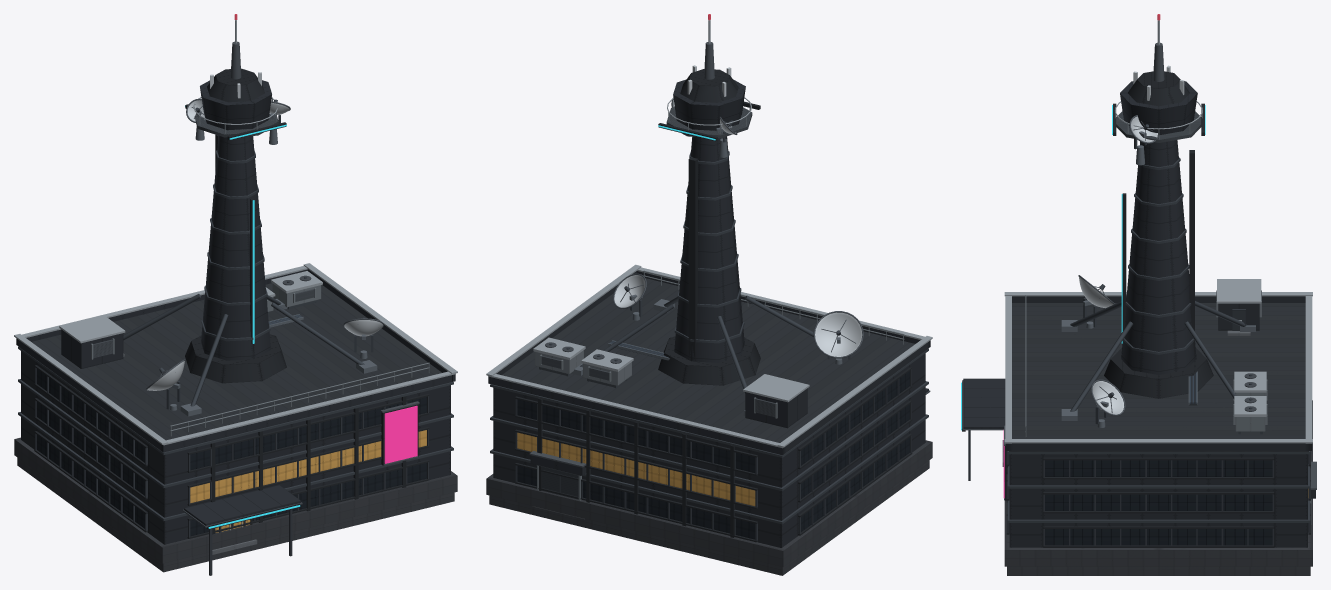
File: trg-6-built.glb
The picture shows the model from 3 angles, left to right: view 1: azimuth 30°, elevation 25°; view 2: azimuth 150°, elevation 25°; view 3: azimuth 270°, elevation 25°; orthographic projection. The views are drawn at different scales.
Size of the model in its own units: 30.94 by 46.91 by 31.03.
39 materials, 26 textured.
